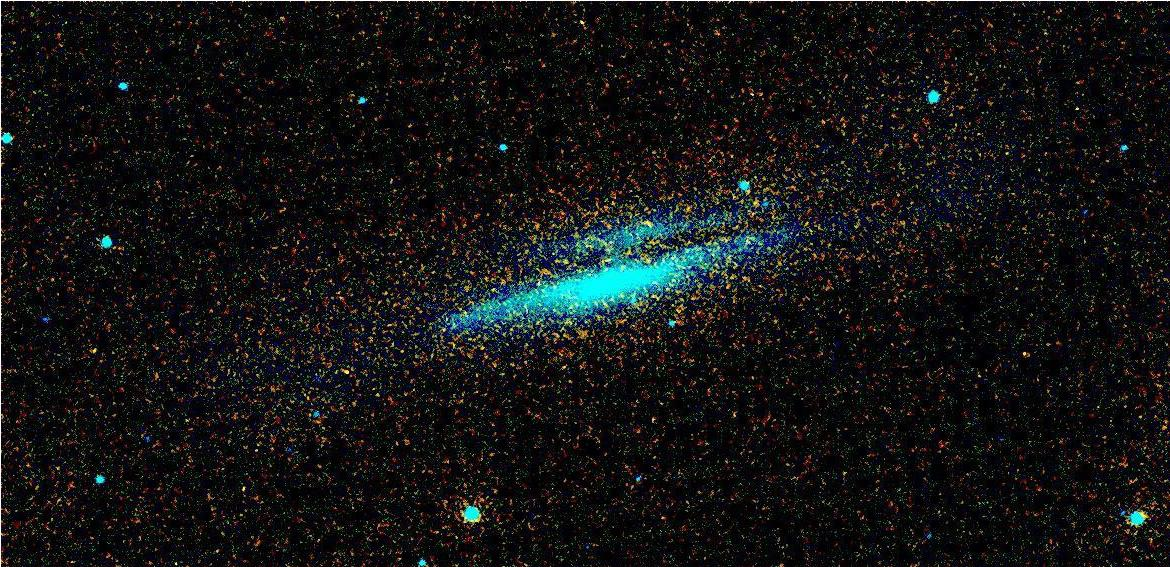star: (335, 356, 365, 386)
